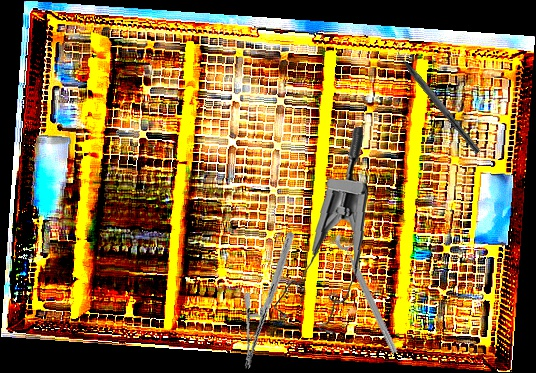Chopper: (388, 39, 488, 155)
Fixation Ring: (332, 227, 409, 357)
Needle Holder: (220, 231, 318, 370)
Speculum: (263, 126, 378, 338)
